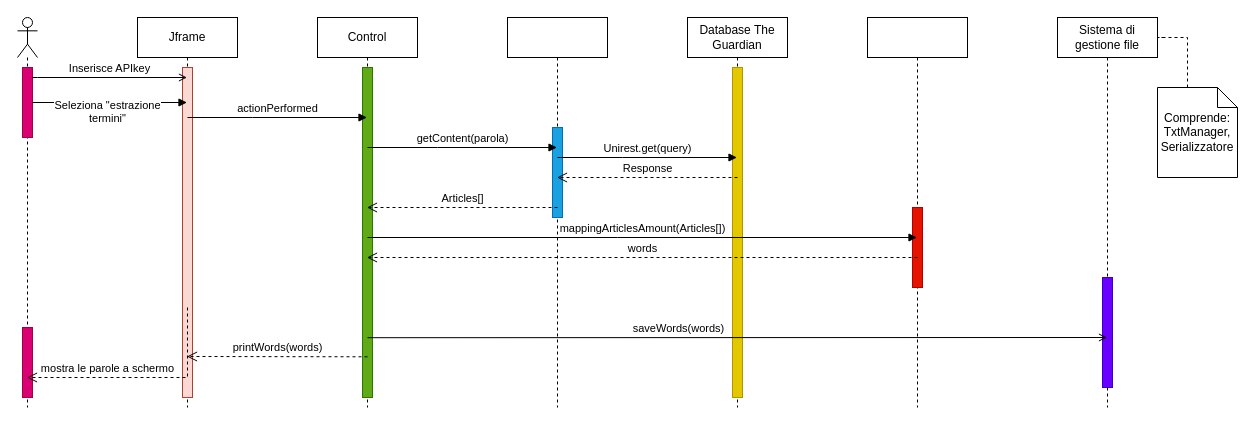
Image size: 1255x425. Some labels were removed from this diagram. The shapes that lost their labels are listed below. From the top down, each one's centre as x and y in pixels, then its label:
[557,212]: Guardian API
[917,212]: Calcolatore parole
